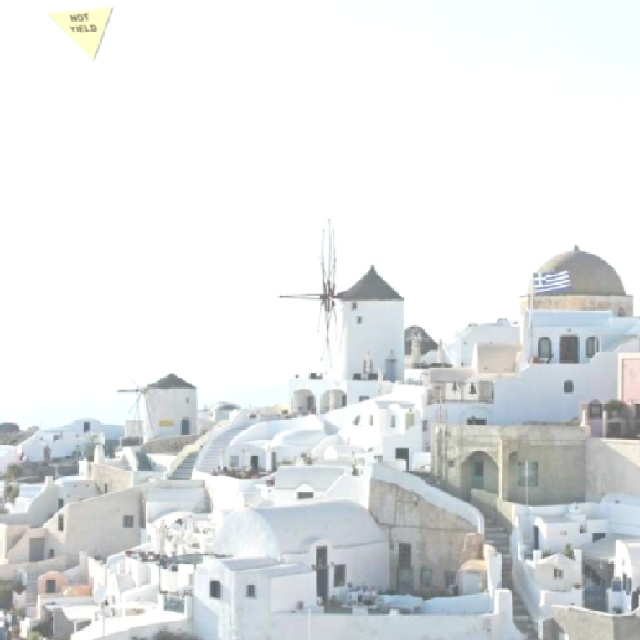NOT_YIELD: (44, 5, 112, 60)
